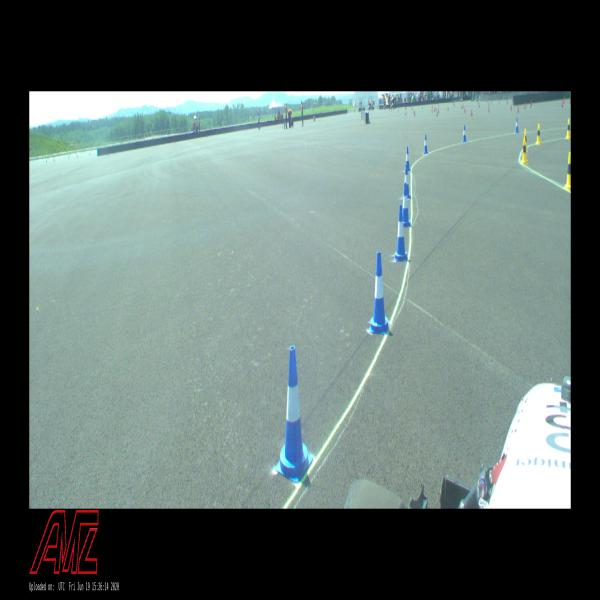blue_cone: (275, 346, 313, 484), (369, 252, 390, 335), (394, 204, 408, 262), (402, 183, 411, 228), (403, 165, 411, 199), (404, 146, 410, 172), (462, 125, 467, 142), (424, 134, 428, 154), (515, 117, 519, 133)
yellow_cone: (564, 152, 570, 190), (521, 136, 528, 165), (536, 123, 541, 145), (524, 128, 528, 152), (566, 118, 570, 140)
